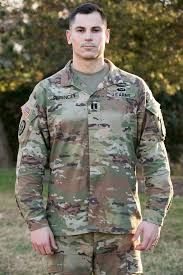uniform: (25, 67, 154, 267)
